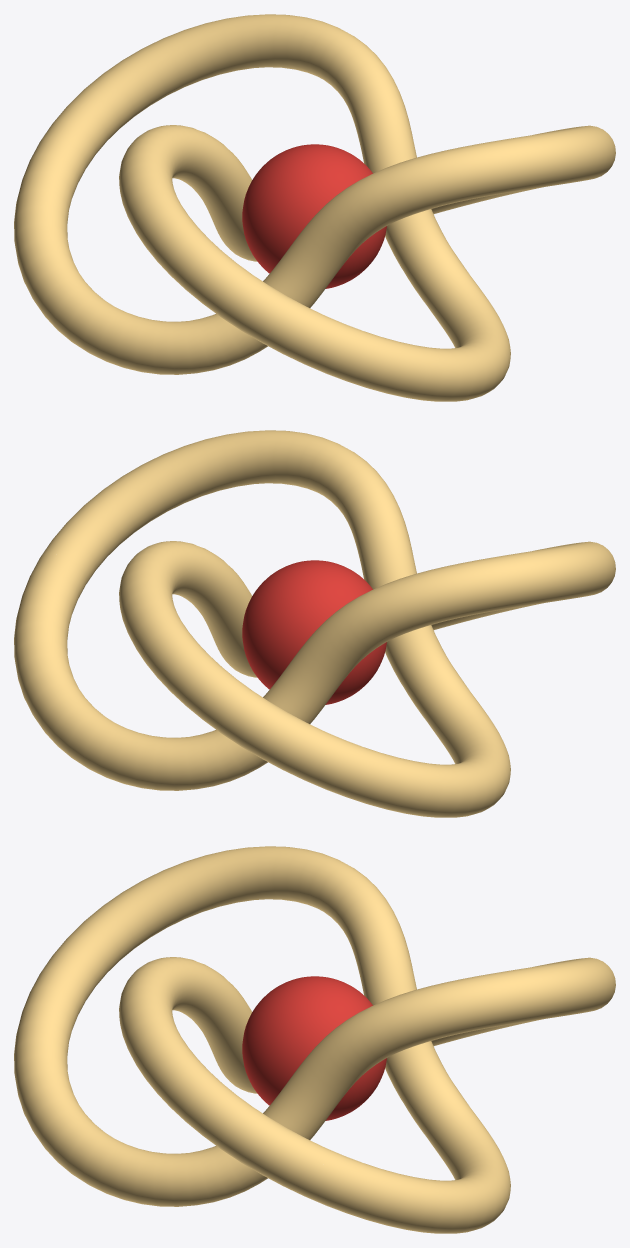
The model's file is viewport-test.glb.
The picture shows the model from 3 angles, top to bottom: view 1: azimuth 30°, elevation 25°; view 2: azimuth 150°, elevation 25°; view 3: azimuth 270°, elevation 25°; orthographic projection.
Bounding box in the file's own units: 2.37 × 1.02 × 2.48.
